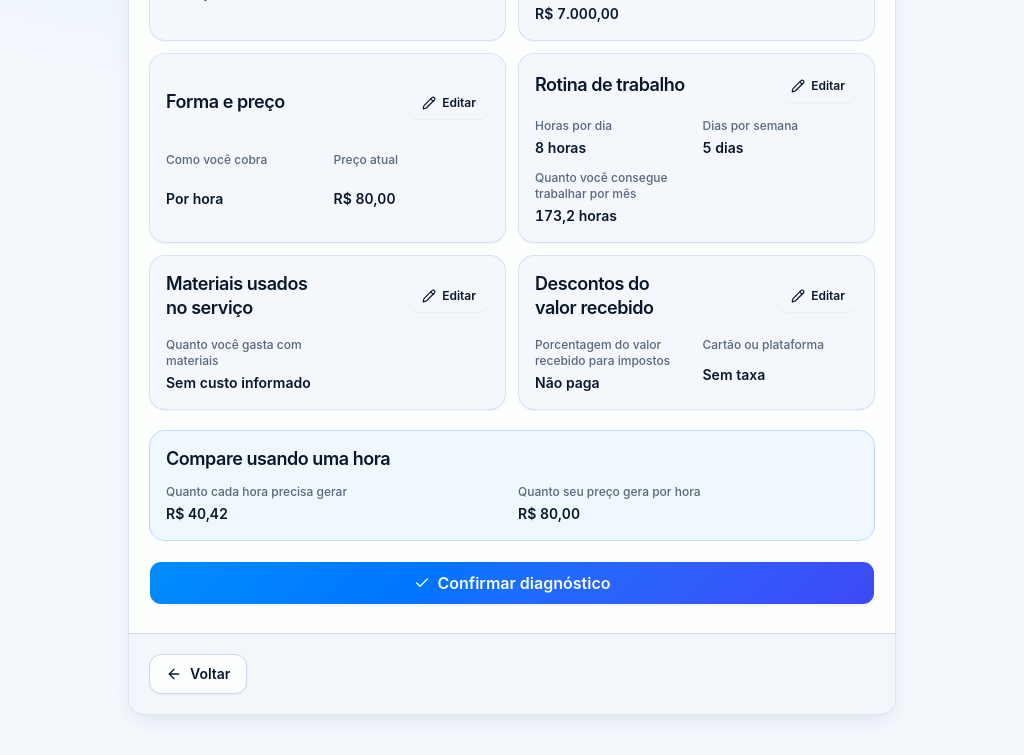
Test case: ServiceDiagnosisWizard › returns to and focuses the first invalid visible answer
(page scrolled)
Click the button "Confirmar diagnóstico": (512,583) [149, 561, 875, 605]
(page scrolled)
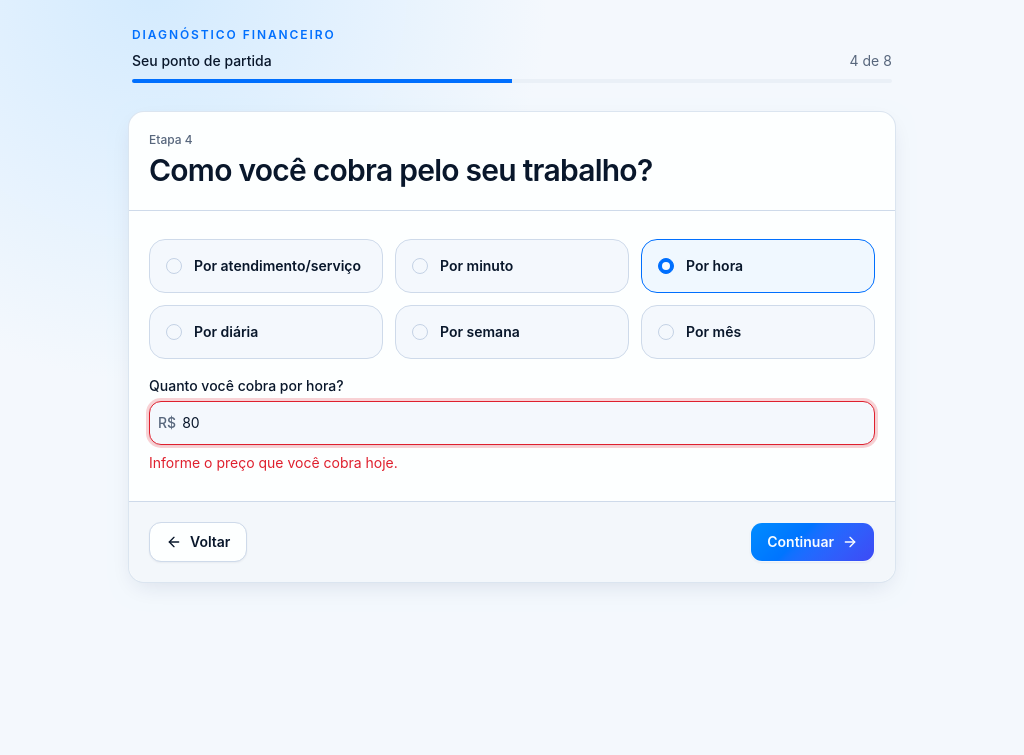
expect the heading "Como você cobra pelo seu trabalho?" is shown: met, box [149, 152, 652, 188]
